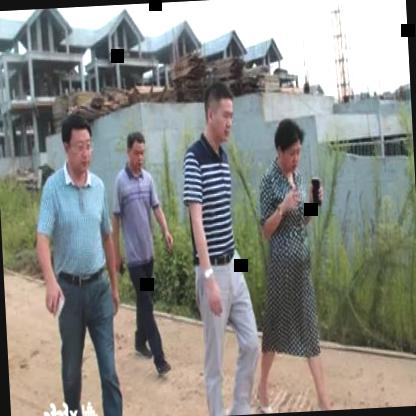head: (198, 74, 240, 154), (58, 109, 98, 176), (269, 114, 308, 180), (124, 127, 149, 174)
